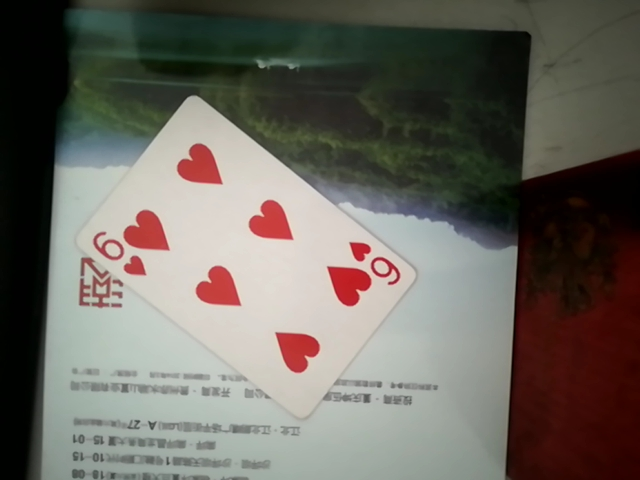hx 6: (60, 99, 437, 406)
